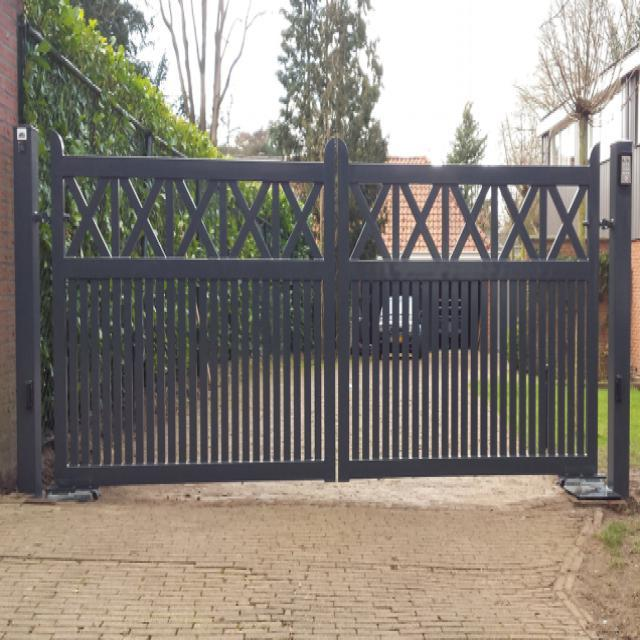fence line: (43, 143, 587, 486)
